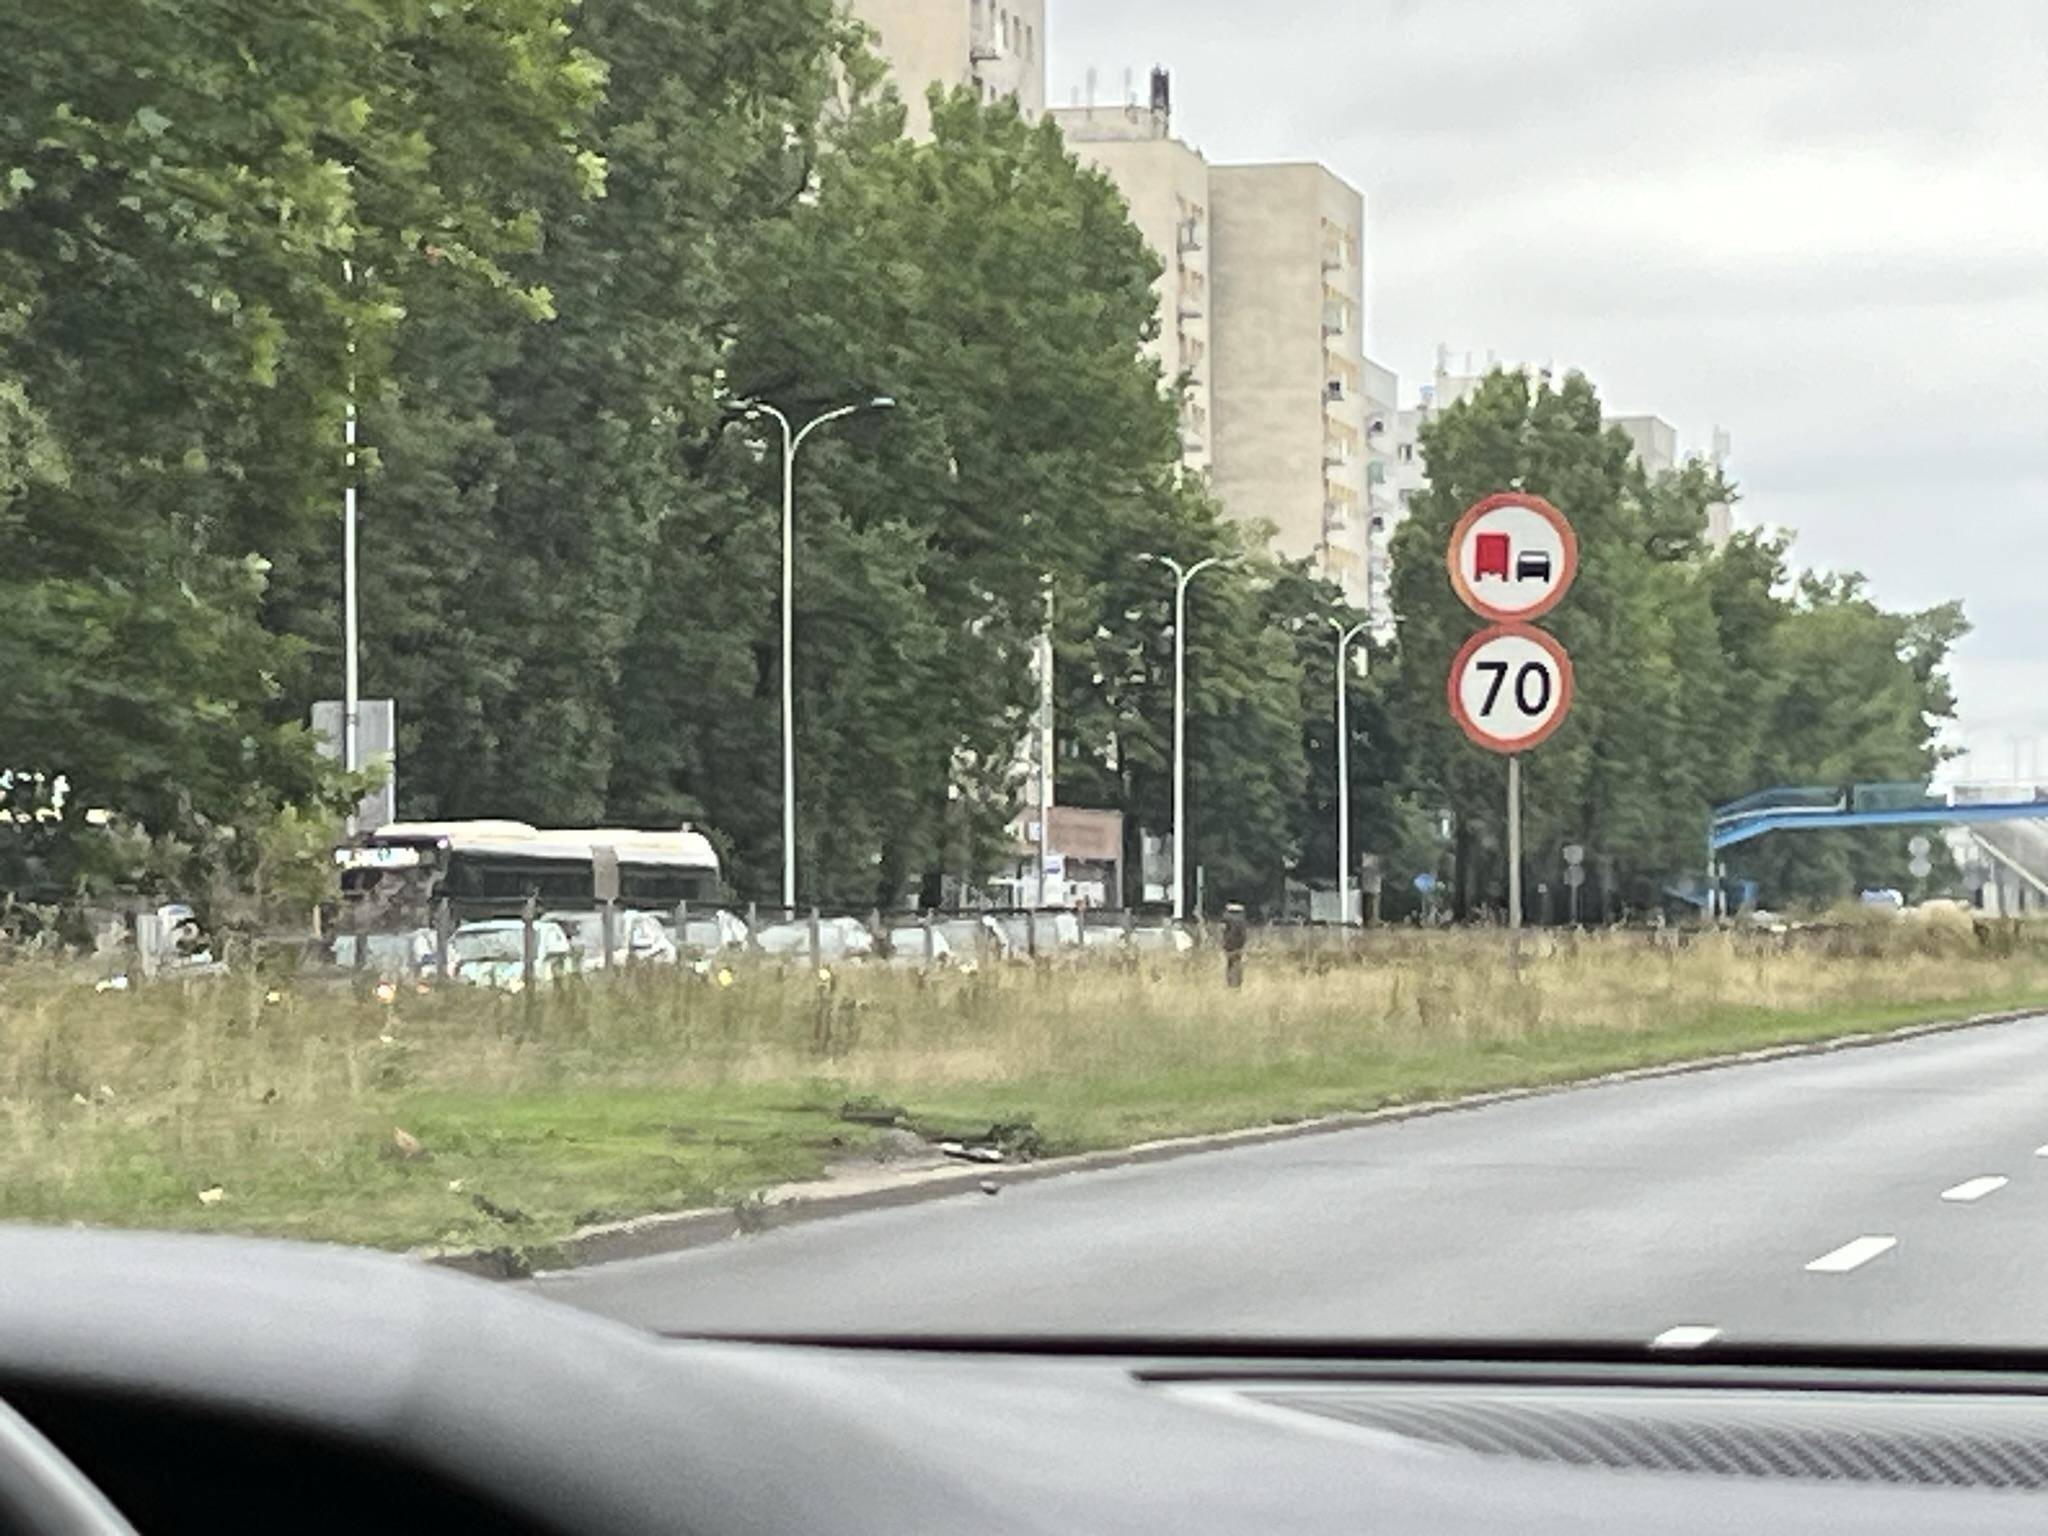prohibitory: (1447, 490, 1581, 621), (1447, 620, 1576, 753)
